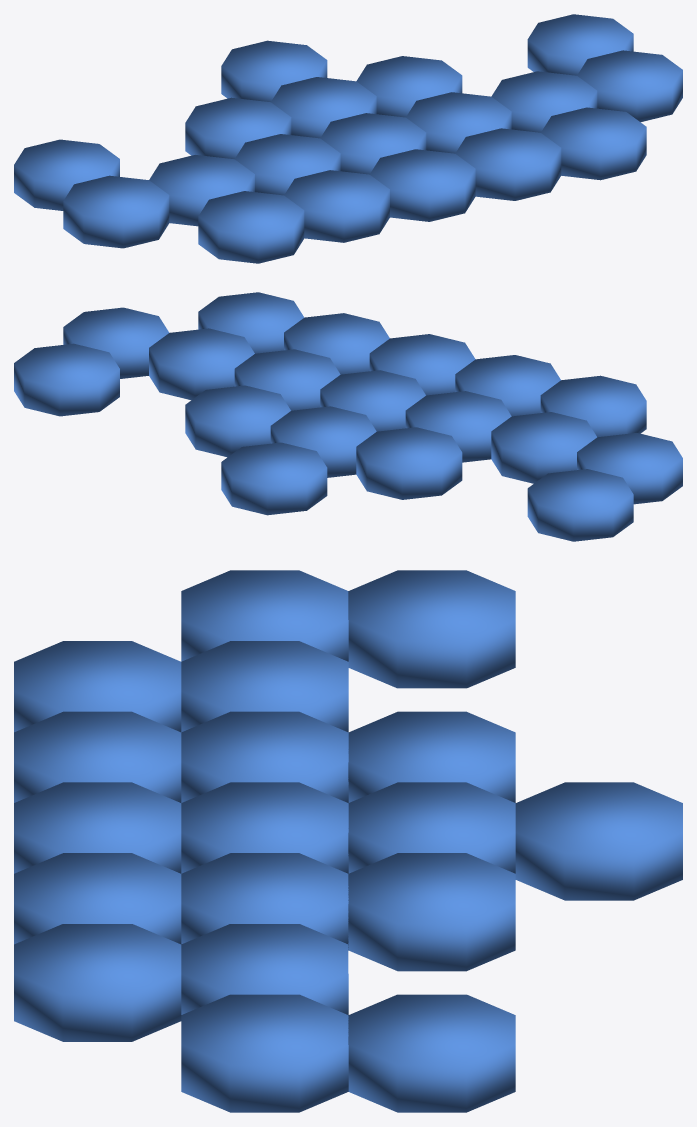
Rendered from Zoo_Base.fbx.
3 renders of one model, top to bottom at view 1: azimuth 30°, elevation 25°; view 2: azimuth 150°, elevation 25°; view 3: azimuth 270°, elevation 25°, orthographic. The views are drawn at different scales.
Visible parts, largest first — view 1: Zoo_Base; view 2: Zoo_Base; view 3: Zoo_Base.
Part boxes in pixels (x1,y1,x2,y2): Zoo_Base: (14, 14, 682, 263); Zoo_Base: (14, 292, 682, 541); Zoo_Base: (14, 570, 682, 1112).
Size of the model in its own units: 4409 by 197 by 2520.
